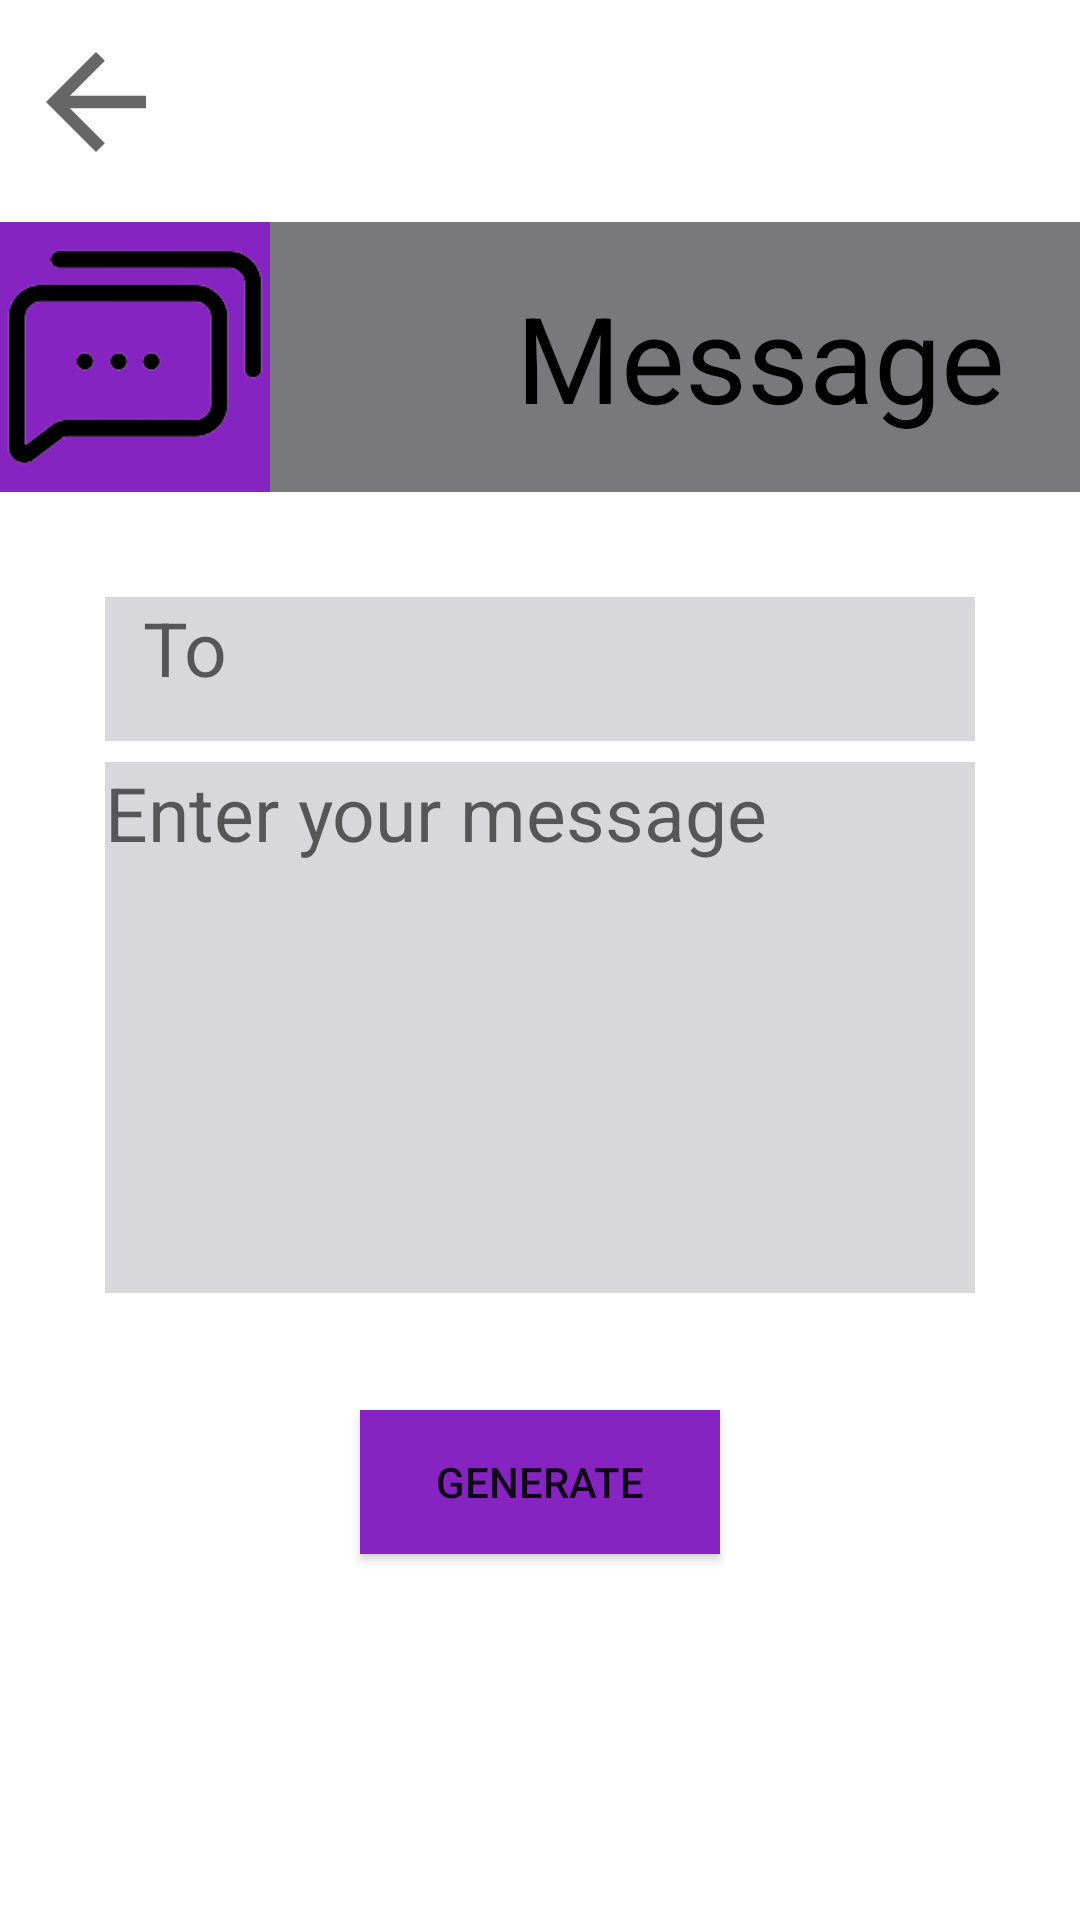

Point at icon controls on the screen. Image size 1080px x 1920px, points as [x,y].
arrow back: [96,102]
